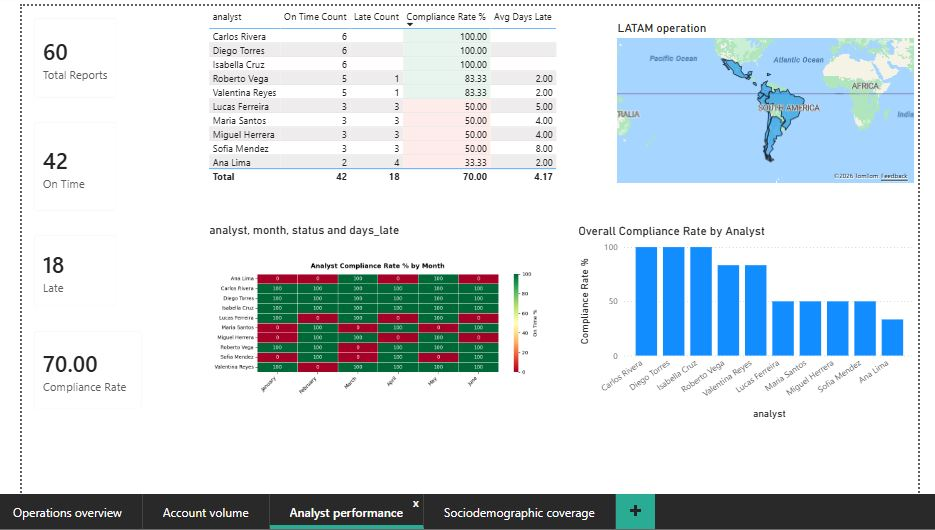

The page's visual inventory and layout, read from the dashboard file:
{"tool":"powerbi","page":{"name":"Analyst performance","canvas":[1280,720],"ordinal":2},"visuals":[{"type":"cardVisual","fields":{"Data":["latam_operations_data.Total Reports Submitted"]},"box":[0,0,152.8,148.4],"z":0},{"type":"cardVisual","fields":{"Data":["latam_operations_data.On Time Count"]},"box":[0,148.4,152.8,161.6],"z":1},{"type":"cardVisual","fields":{"Data":["latam_operations_data.Late Count"]},"box":[0,310,152.8,136.7],"z":2},{"type":"cardVisual","fields":{"Data":["latam_operations_data.Compliance Rate %"]},"box":[0,446.7,188.1,145.5],"z":3},{"type":"tableEx","fields":{"Values":["latam_operations_data.analyst","latam_operations_data.On Time Count","latam_operations_data.Late Count","latam_operations_data.Compliance Rate %","latam_operations_data.Avg Days Late"]},"box":[261.6,0,518.7,257.1],"z":4},{"type":"pythonVisual","fields":{"Values":["latam_operations_data.analyst","latam_operations_data.month","latam_operations_data.status","latam_operations_data.days_late"]},"box":[262.9,310.7,516.8,283.8],"z":5},{"type":"columnChart","title":"Overall Compliance Rate by Analyst","fields":{"Category":["latam_operations_data.analyst"],"Y":["latam_operations_data.Compliance Rate %"]},"box":[790,311,490,284],"z":6},{"type":"azureMap","title":"LATAM operation","fields":{"Category":["latam_operations_data.country"]},"box":[845.7,21.4,434.3,235.7],"z":7}]}

Visuals, with their boxes on the page's 1280x720 design canvas (x1, y1, x2, y2). These are canvas units, not pixel positions in the 935x530 screenshot, which may show the page scaled, cropped or inside an application window:
cardVisual - latam_operations_data.Total Reports Submitted: (left=0, top=0, right=153, bottom=148)
cardVisual - latam_operations_data.On Time Count: (left=0, top=148, right=153, bottom=310)
cardVisual - latam_operations_data.Late Count: (left=0, top=310, right=153, bottom=447)
cardVisual - latam_operations_data.Compliance Rate %: (left=0, top=447, right=188, bottom=592)
tableEx - latam_operations_data.analyst x latam_operations_data.On Time Count: (left=262, top=0, right=780, bottom=257)
pythonVisual - latam_operations_data.analyst x latam_operations_data.month: (left=263, top=311, right=780, bottom=594)
"Overall Compliance Rate by Analyst" columnChart: (left=790, top=311, right=1280, bottom=595)
"LATAM operation" azureMap: (left=846, top=21, right=1280, bottom=257)
